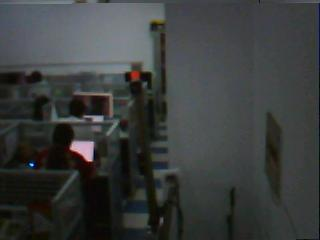oball: (130, 70, 140, 79)
